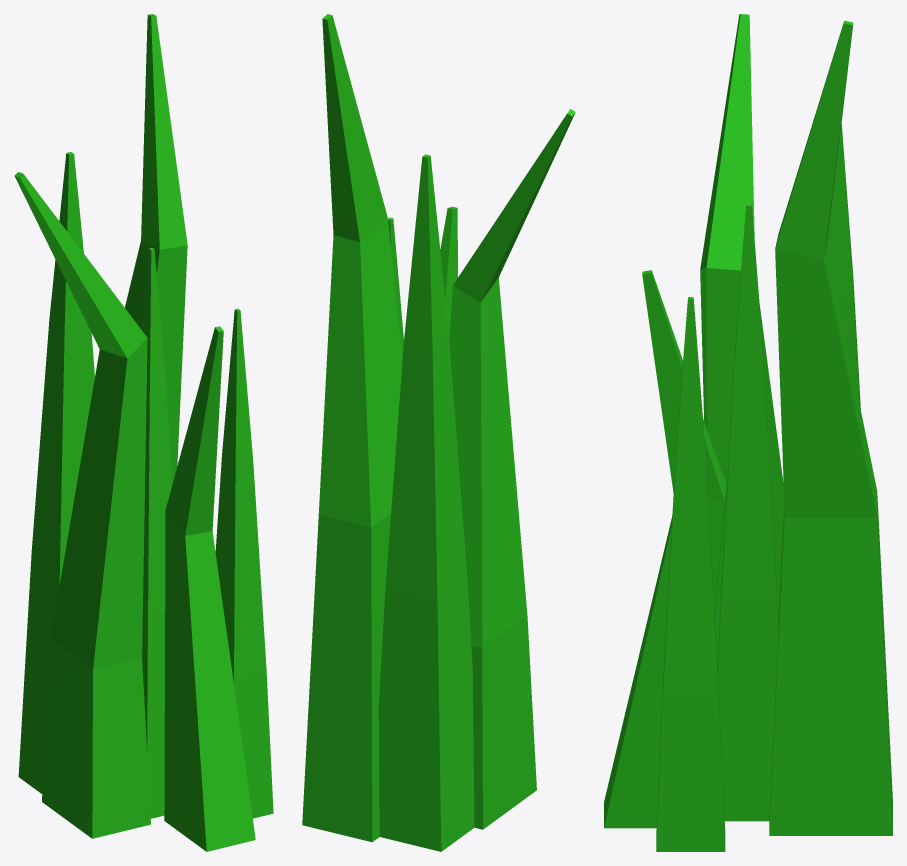
The model's file is Grass_T4.fbx.
The picture shows the model from 3 angles, left to right: view 1: azimuth 30°, elevation 25°; view 2: azimuth 150°, elevation 25°; view 3: azimuth 270°, elevation 25°; orthographic projection. The views are drawn at different scales.
Visible parts, largest first — view 1: Grass_T4; view 2: Grass_T4; view 3: Grass_T4.
Boxes of the visible parts, <box> form: Grass_T4: <box>14,14,273,851</box>; Grass_T4: <box>302,14,575,851</box>; Grass_T4: <box>604,14,892,851</box>.
Bounding box in the file's own units: 21.36 × 69.87 × 22.53.
